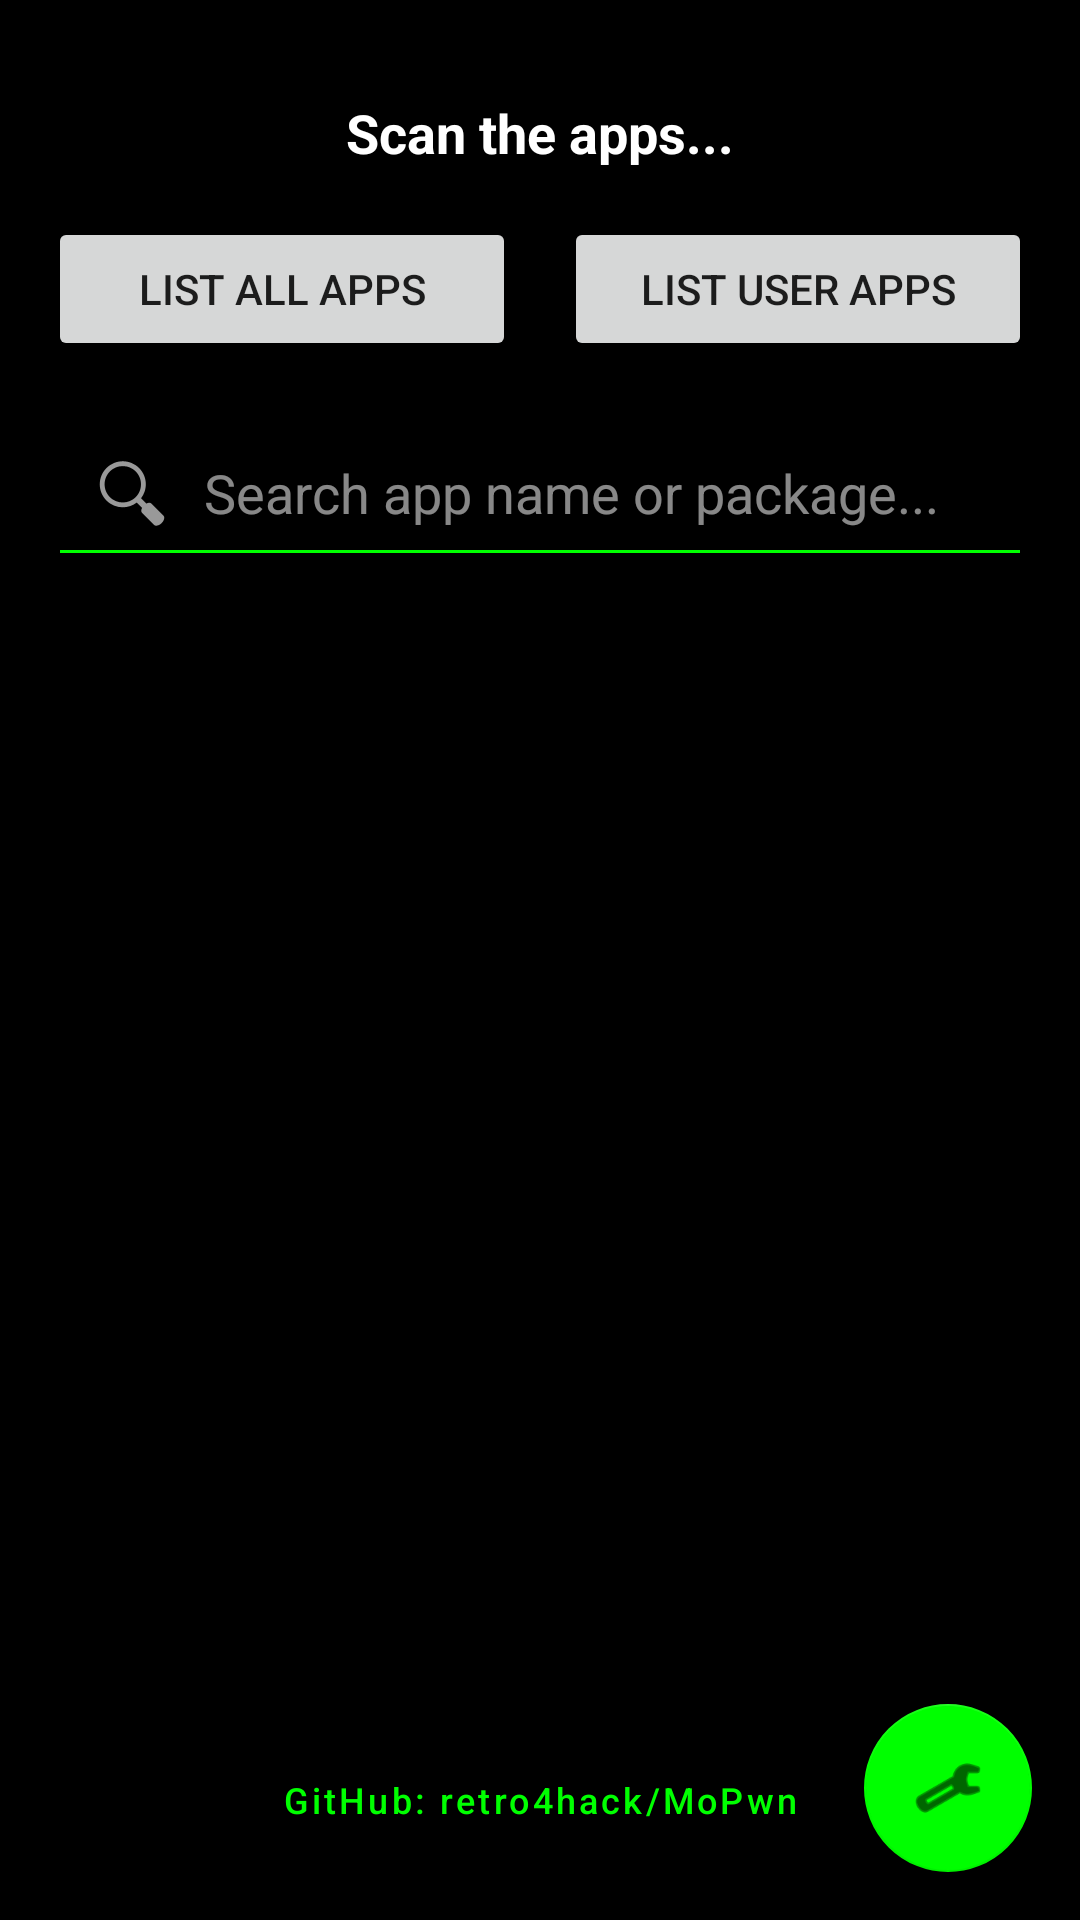

Icons on this 1080w x 1920h Android screen, each with the point to tap as (x,y):
General Tools: (948,1788)
